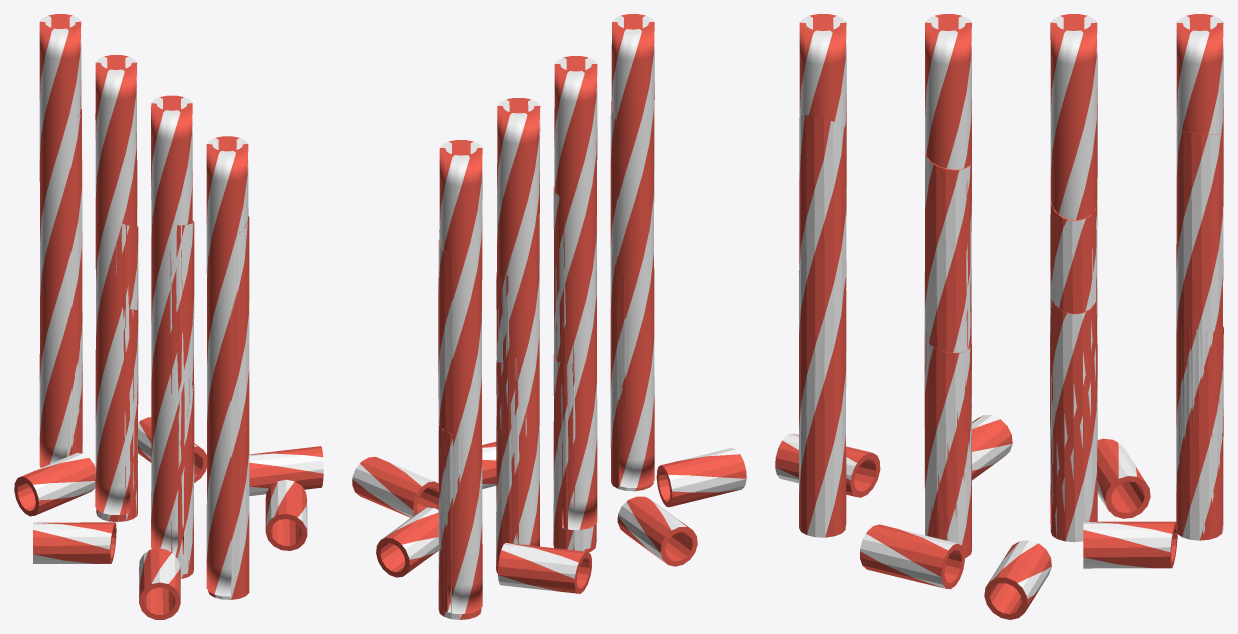
The model's file is SM_gate.fbx.
3 renders of one model, left to right at view 1: azimuth 30°, elevation 25°; view 2: azimuth 150°, elevation 25°; view 3: azimuth 270°, elevation 25°, orthographic. The views are drawn at different scales.
Visible parts, largest first — view 1: SM_gate_1, SM_gate_2, SM_gate_3; view 2: SM_gate_1, SM_gate_2, SM_gate_3; view 3: SM_gate_2, SM_gate_3, SM_gate_1.
Boxes of the visible parts, x1,y1,x2,y2 form: SM_gate_1: [39, 14, 248, 596]; SM_gate_2: [33, 109, 307, 590]; SM_gate_3: [14, 286, 323, 619]; SM_gate_1: [439, 14, 654, 613]; SM_gate_2: [376, 101, 697, 611]; SM_gate_3: [352, 256, 746, 619]; SM_gate_2: [799, 115, 1223, 589]; SM_gate_3: [775, 284, 1223, 619]; SM_gate_1: [799, 14, 1223, 524].
Bounding box in the file's own units: 357 × 513 × 396.
Materials: 1 (1 with a texture image).
